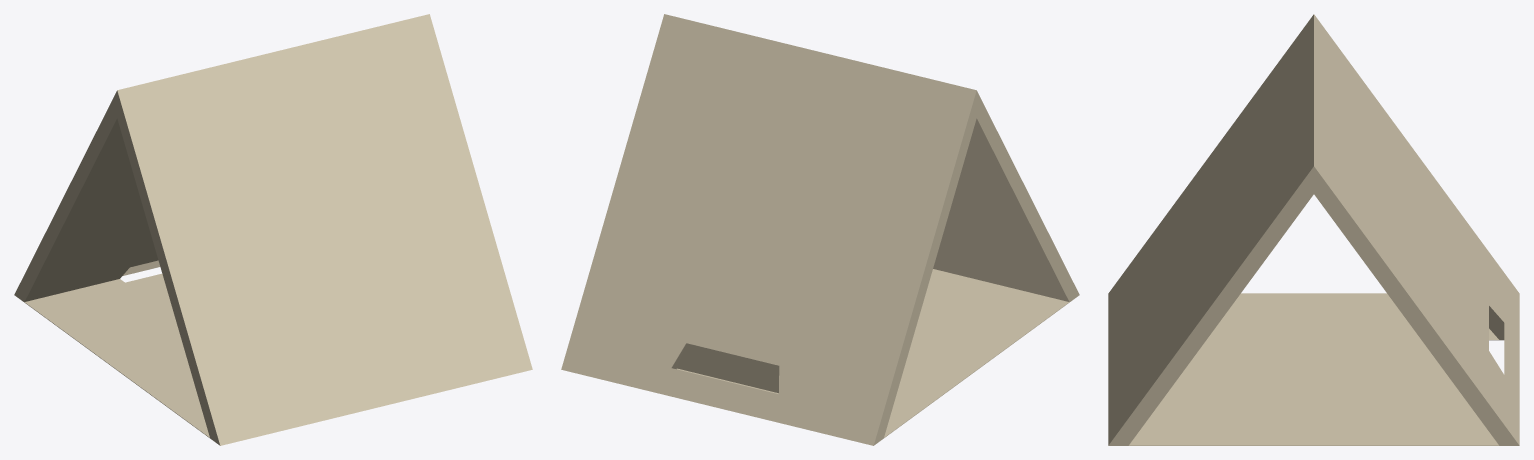
Rendered from tent.fbx.
3 views of the same model, side by side, from view 1: azimuth 30°, elevation 25°; view 2: azimuth 150°, elevation 25°; view 3: azimuth 270°, elevation 25° (orthographic).
Parts seen in each view (by area): view 1: tent; view 2: tent; view 3: tent.
Boxes of the visible parts, x1,y1,x2,y2 form: tent: [14, 14, 532, 445]; tent: [561, 14, 1079, 445]; tent: [1108, 14, 1519, 445].
Bounding box in the file's own units: 700 × 600 × 800.
